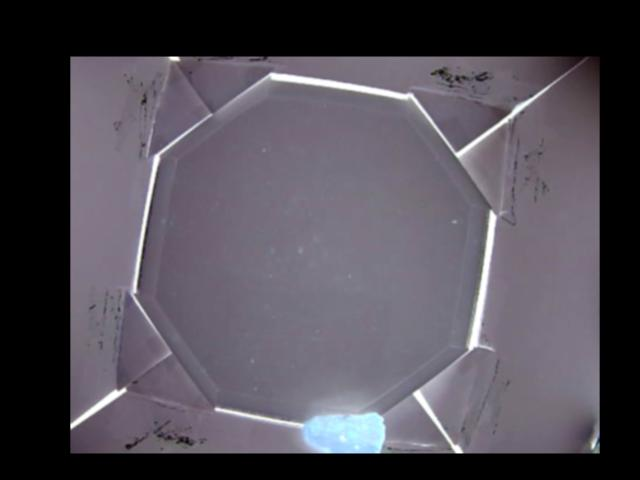Brisk: (301, 414, 385, 453)
